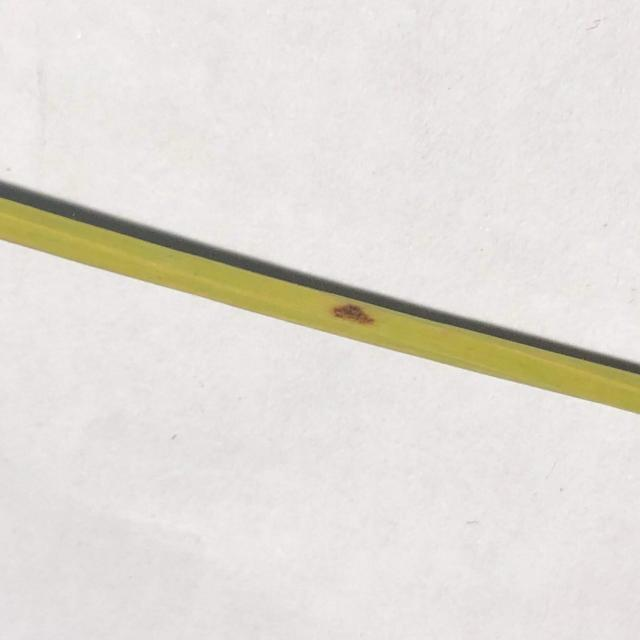Blast: (328, 303, 379, 326)
